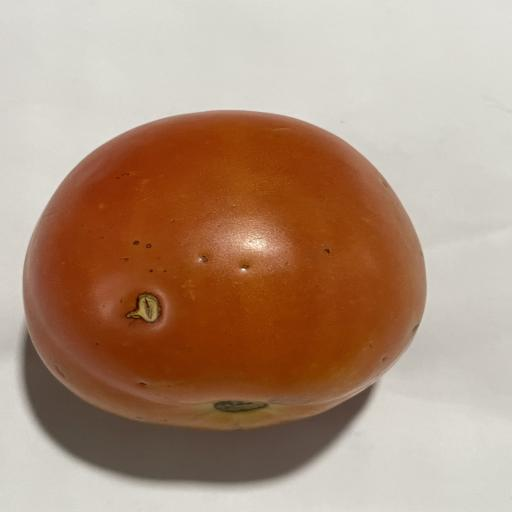ripe: (23, 111, 425, 430)
